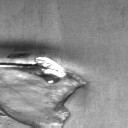slag inclusion: (0, 52, 89, 128)
